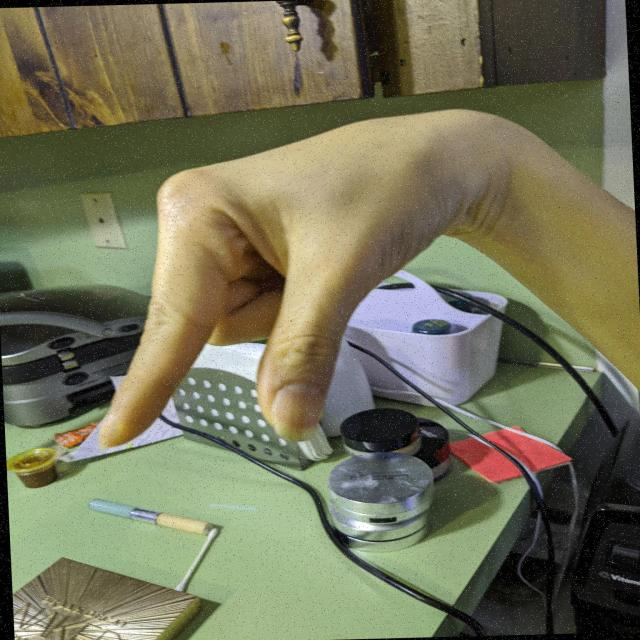Q: (70, 97, 468, 455)
